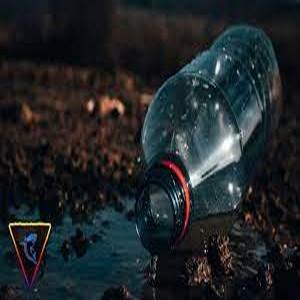Plastic: (135, 17, 280, 262)
